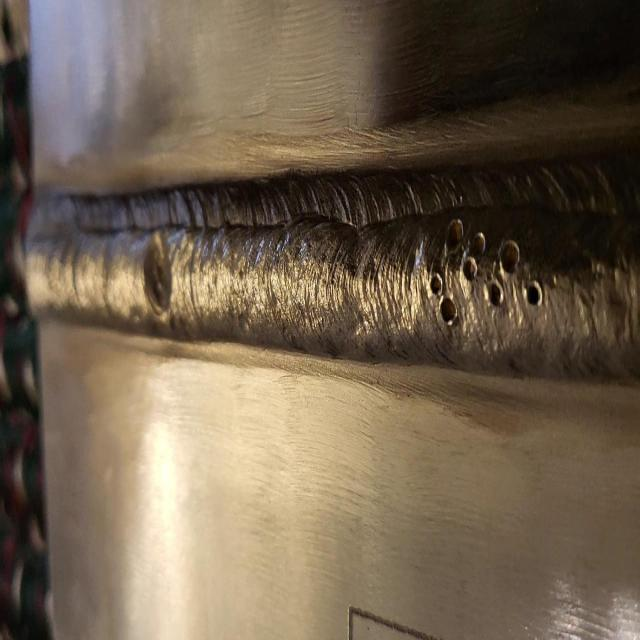Welding Line: (26, 187, 639, 355)
Workpiece: (30, 4, 640, 640)
porosity: (429, 219, 543, 326), (142, 242, 172, 316)
